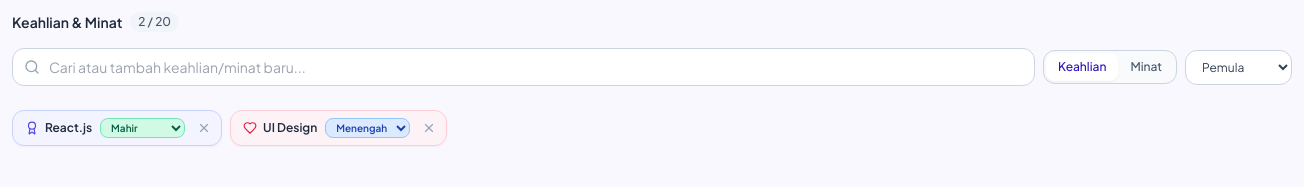
Test: M04 Profile & Skills Frontend Components › SkillSelector › prevents adding duplicate skill and shows error message
Type "react.js" into the dropdown with placeholder "Cari atau tambah keahlian/minat baru...".
click(524, 67); type("react.js")  # box [12,48,1035,86]
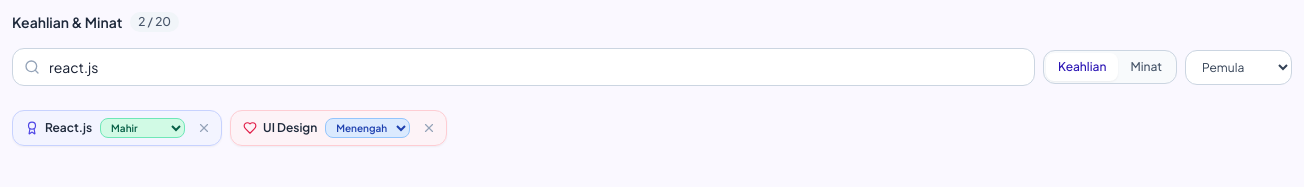
Press Enter in the dropdown with placeholder "Cari atau tambah keahlian/minat baru...", box [12,48,1035,86]
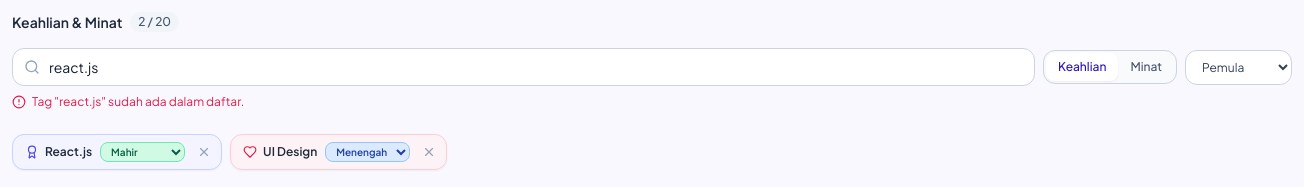
Expected: the text "Tag \"react.js\" sudah ada dalam daftar." is shown, [32,94,244,110]
